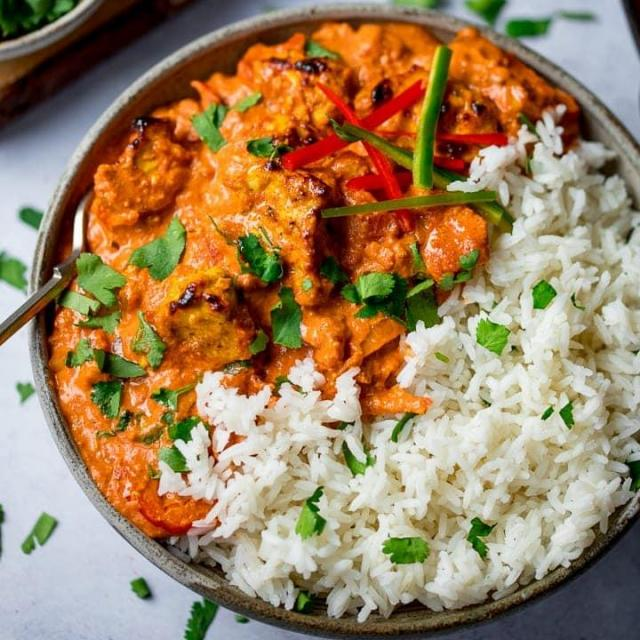chicken: (42, 33, 428, 449)
rice: (176, 115, 635, 624)
